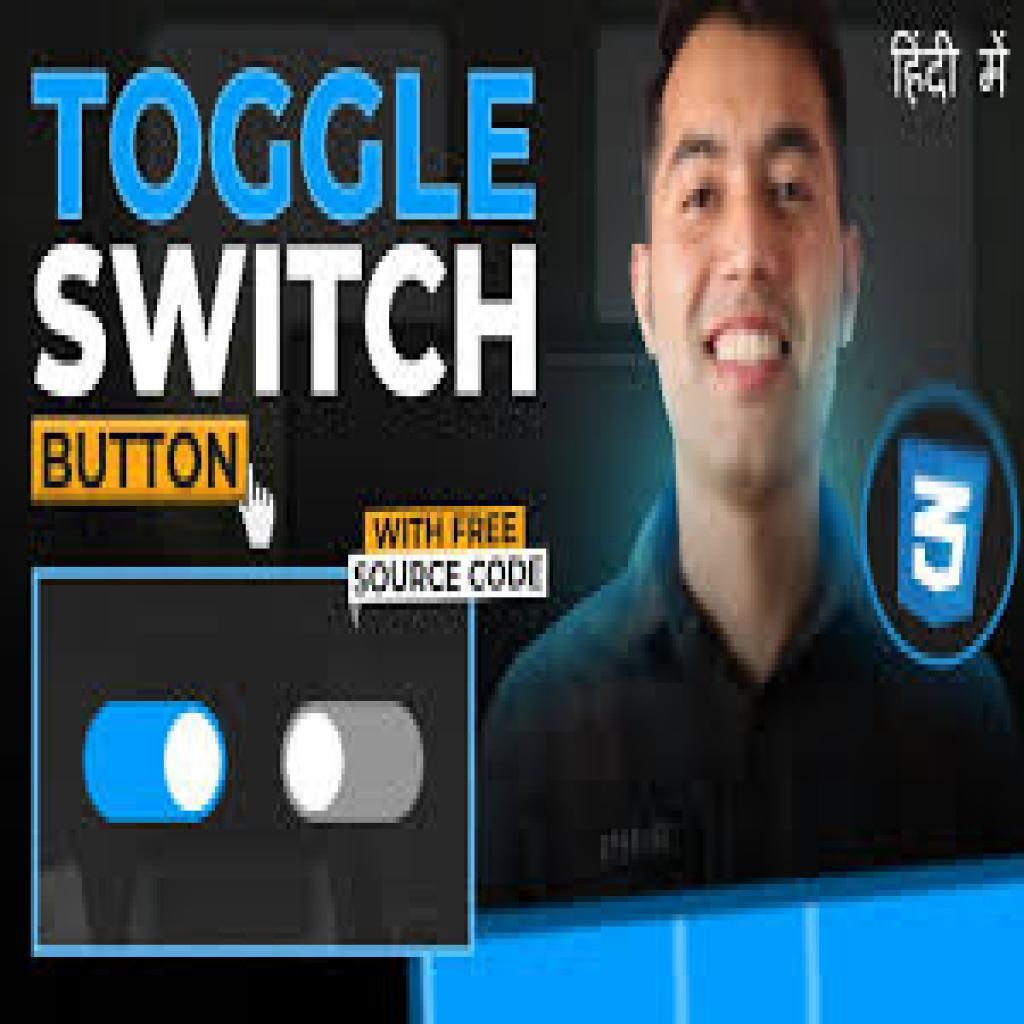switch: (281, 701, 425, 825), (86, 702, 227, 824)
